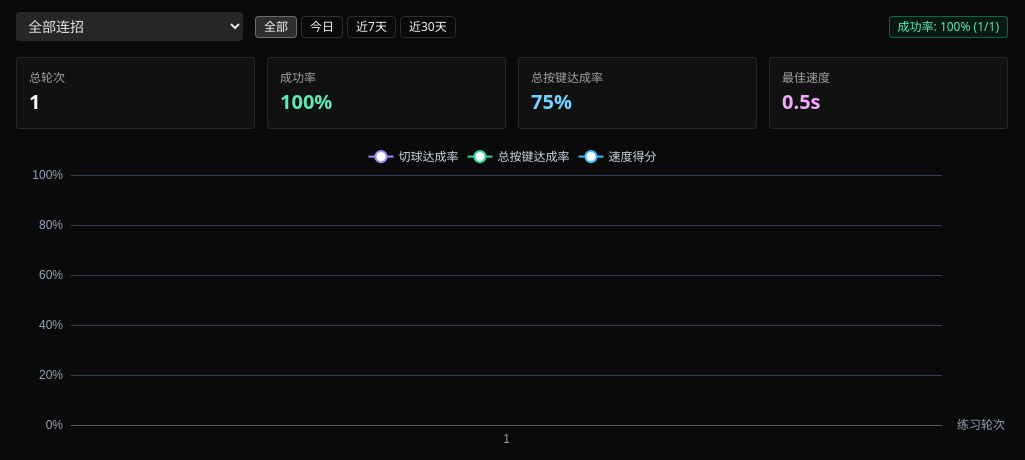
Dashboard — 趋势折线图(combo筛选+时间范围) › 筛选后无数据时显示"该时间范围内无记录"
The width and height of the screenshot is (1025, 460).
Click the button "今日" at (322, 26), box x1=301 y1=16 x2=343 y2=38
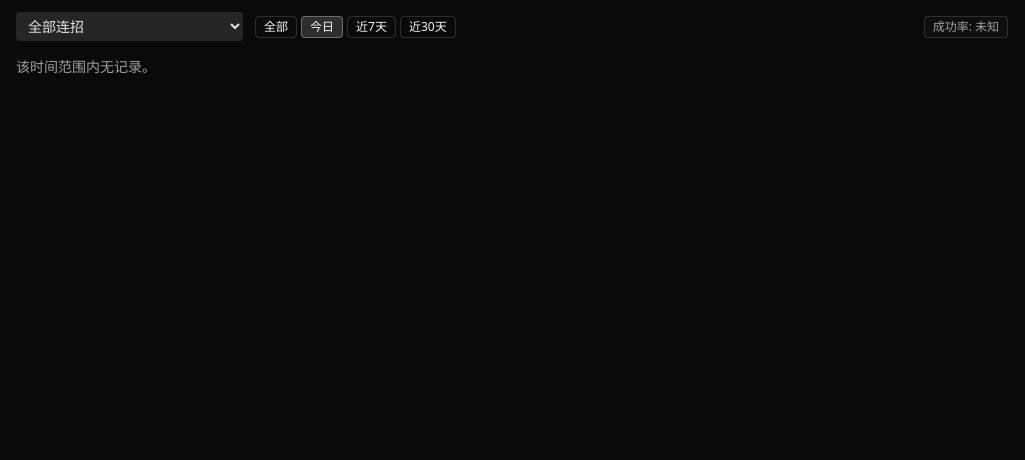
expect the text "该时间范围内无记录。" is shown: met, box x1=16 y1=57 x2=156 y2=76
